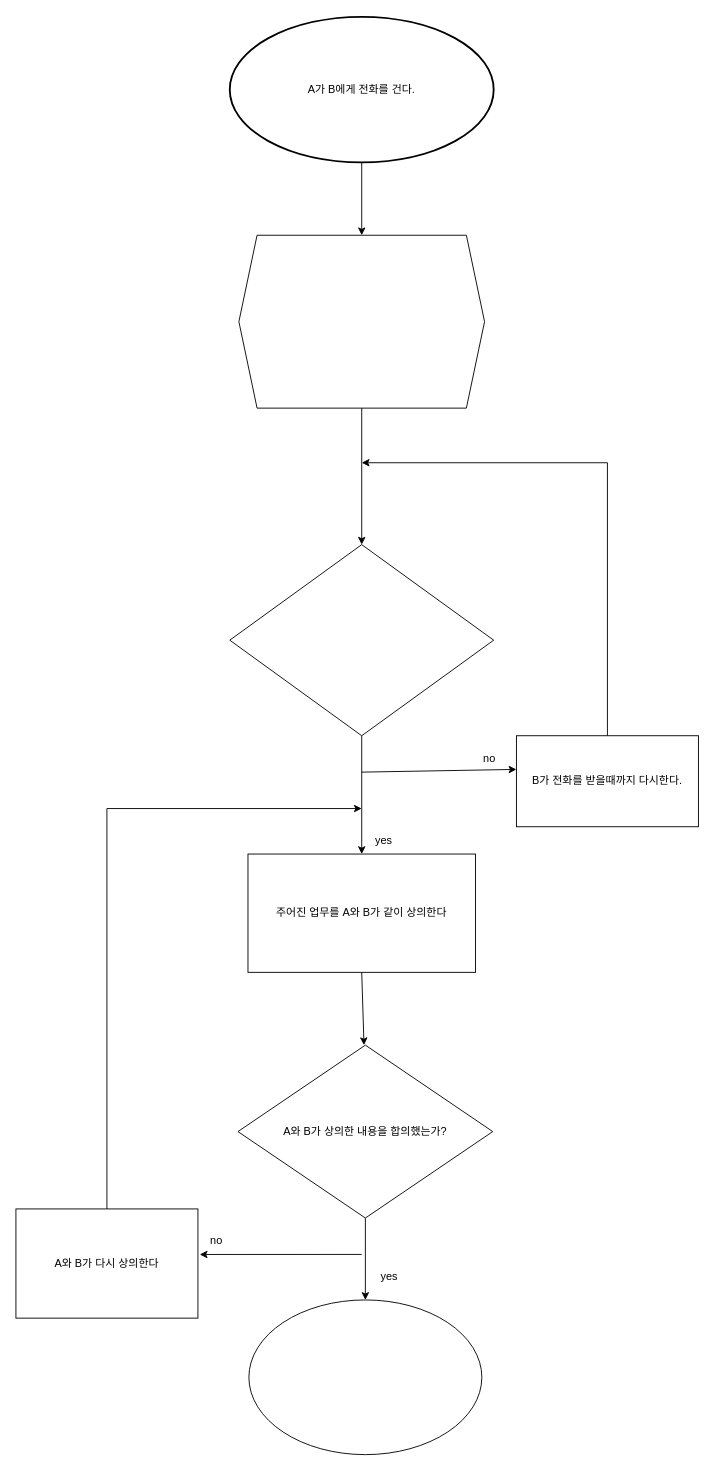
Image size: 714x1471. Some labels were removed from this diagram. Here are the shapes that lost their labels. From the top down, the centre of each, then its label:
(361,321): A는 B의 상사이다.
(361,640): B가 전화를 받는가?
(365,1377): A가 합의된 사항을 B에게 시킨다
